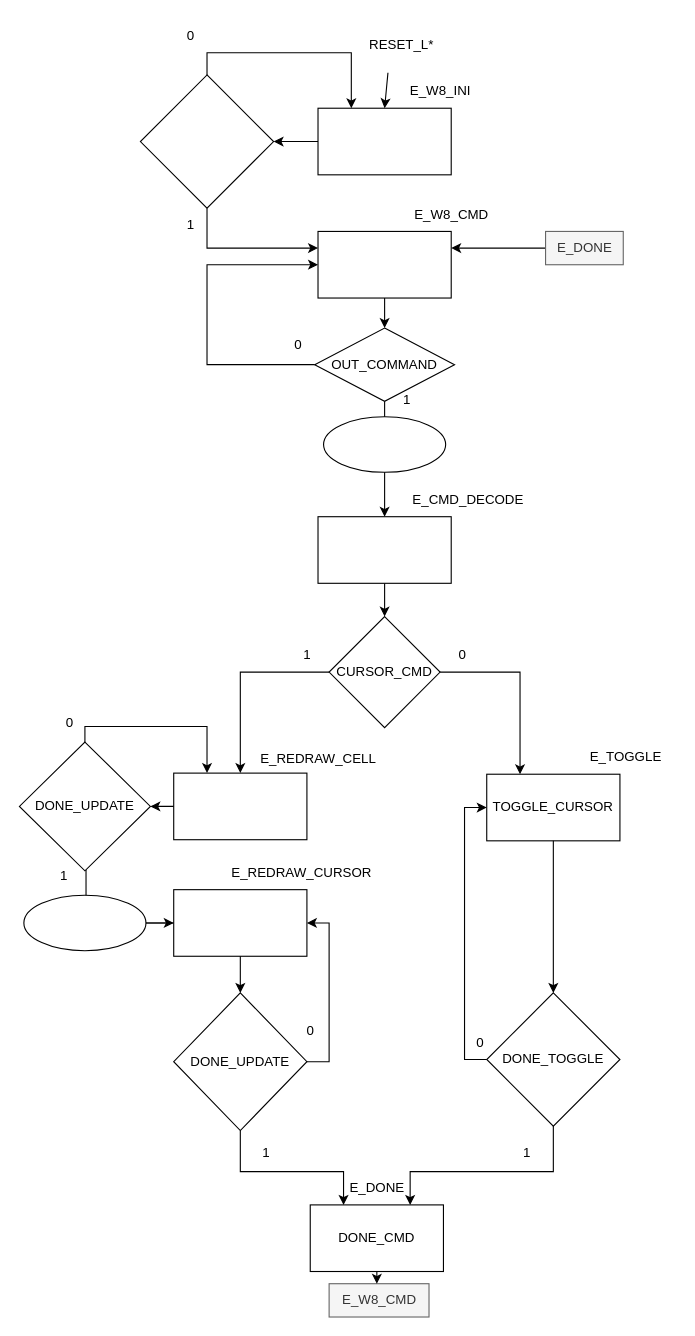
This 695x1336 diagram has some shape labels left out. Each missing label, with the centre of its shape:
INCR_DECR: the point at 84,922
LD_COMMAND: the point at 384,444
NONO_INIT_DONE: the point at 206,141
UPDATE_CURSOR: the point at 240,806
